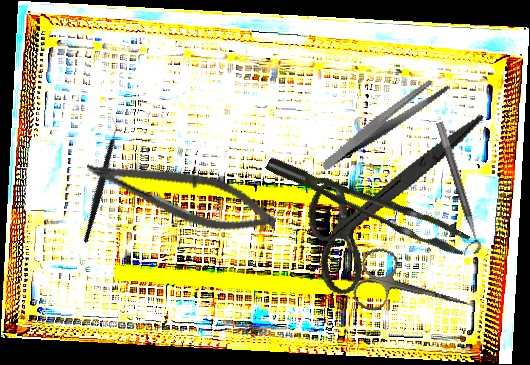Chopper: (43, 115, 156, 245)
Dressing Forceps: (306, 74, 463, 172)
Fixation Ring: (424, 121, 484, 257)
Iris Scissors: (288, 76, 485, 320), (350, 243, 479, 337)
Micro Scissor: (79, 148, 283, 244)
Tissue Forceps: (265, 130, 472, 276)
